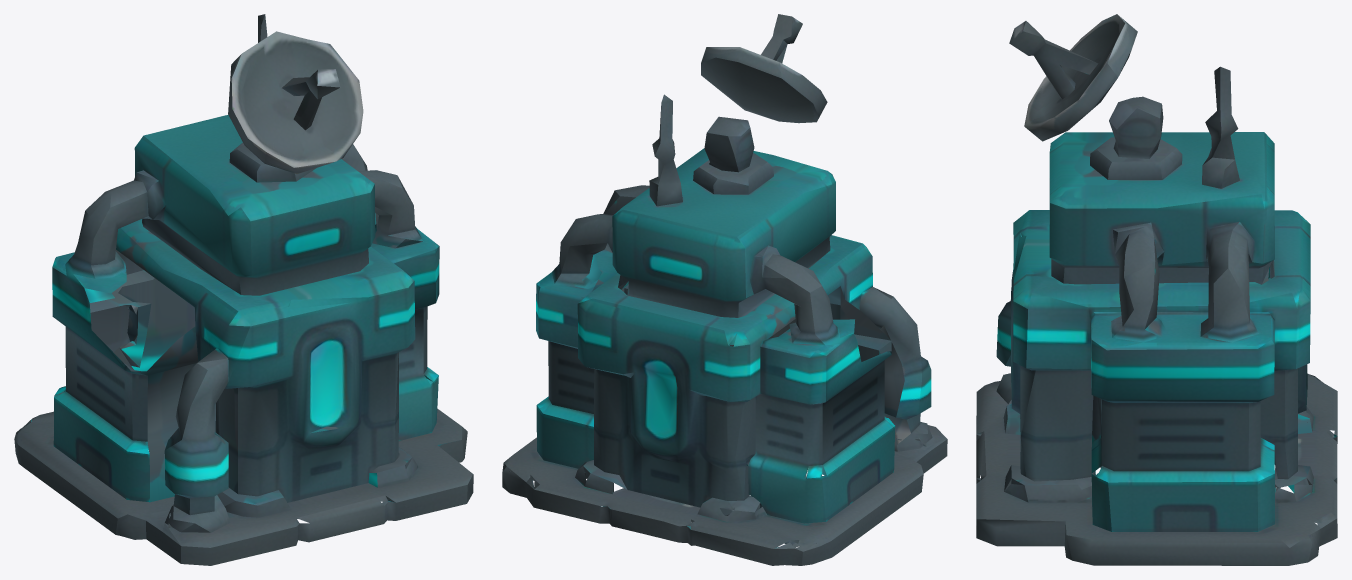
Rendered from Environment 3.1.fbx.
The picture shows the model from 3 angles, left to right: view 1: azimuth 30°, elevation 25°; view 2: azimuth 150°, elevation 25°; view 3: azimuth 270°, elevation 25°; orthographic projection. The views are drawn at different scales.
Parts seen in each view (by area): view 1: tmp3idzo24s.ply; view 2: tmp3idzo24s.ply; view 3: tmp3idzo24s.ply.
Part boxes in pixels (x1,y1,x2,y2): tmp3idzo24s.ply: (14,14,473,565); tmp3idzo24s.ply: (502,14,947,565); tmp3idzo24s.ply: (976,14,1337,565).
Bounding box in the file's own units: 164 × 199 × 143.
1 material, 1 textured.
